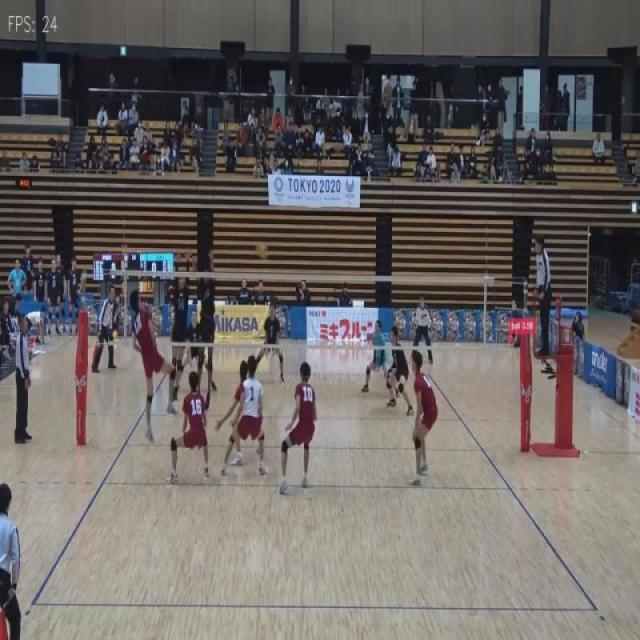volleyball: (256, 241, 268, 260), (112, 328, 119, 339)
